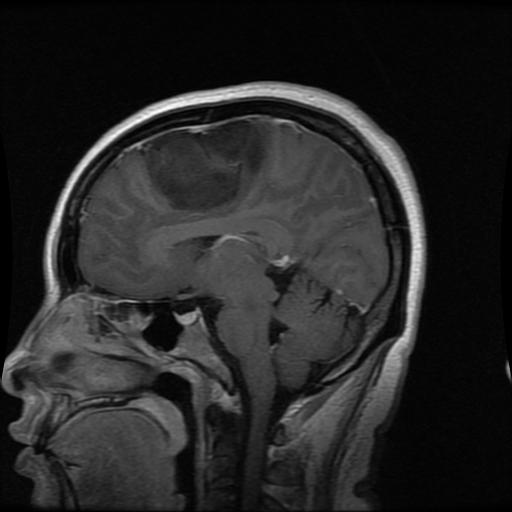Gliomia_tumour: (140, 116, 268, 211)
